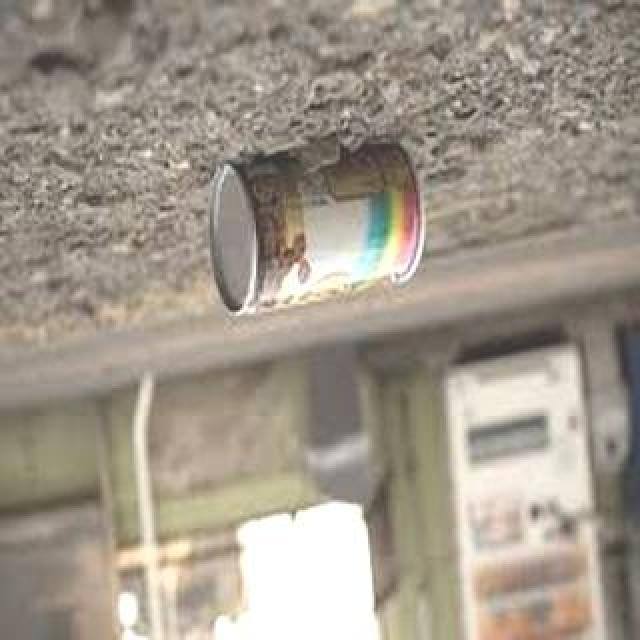Can: (189, 136, 445, 318)
